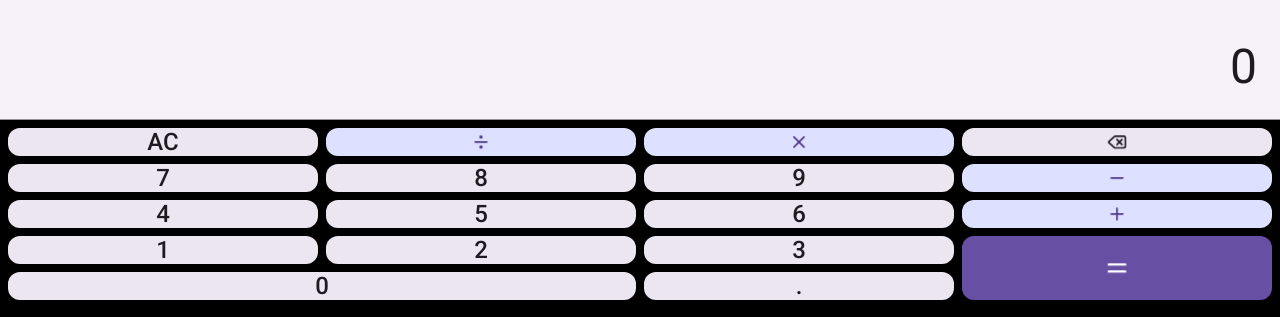
CalculatorApp › handles AC (All Clear)
The width and height of the screenshot is (1280, 317).
What coordinates should you click on to do the following:
click the button "1"
I would click on:
 (163, 250)
Its box is [8,236,318,264].
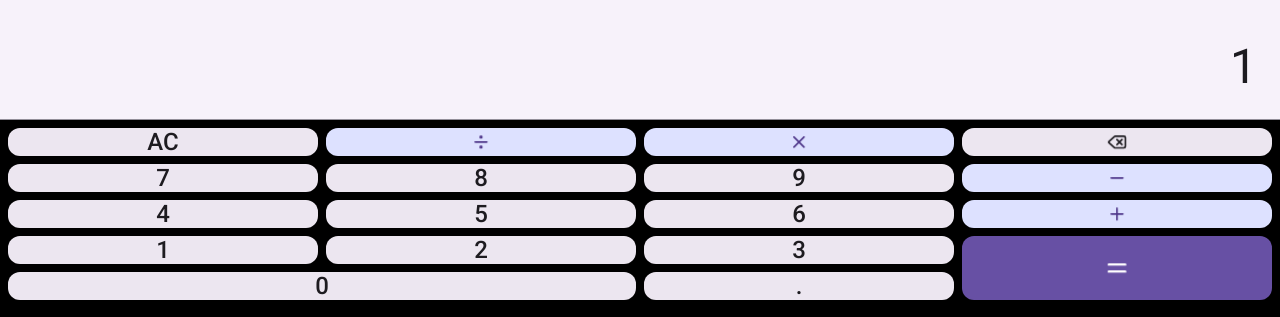
What coordinates should you click on to do the following:
click the button "2"
I would click on:
 (481, 250)
Its box is [326,236,636,264].
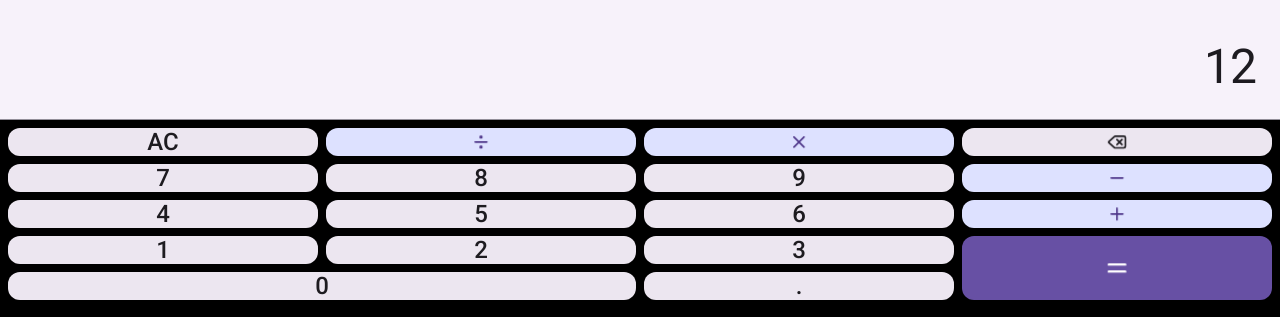
Expected: the heading with test id "display" reads "12", [1204,38,1256,95]
What coordinates should you click on to do the following:
click the button "AC"
I would click on:
 (163, 142)
Its box is [8,128,318,156].
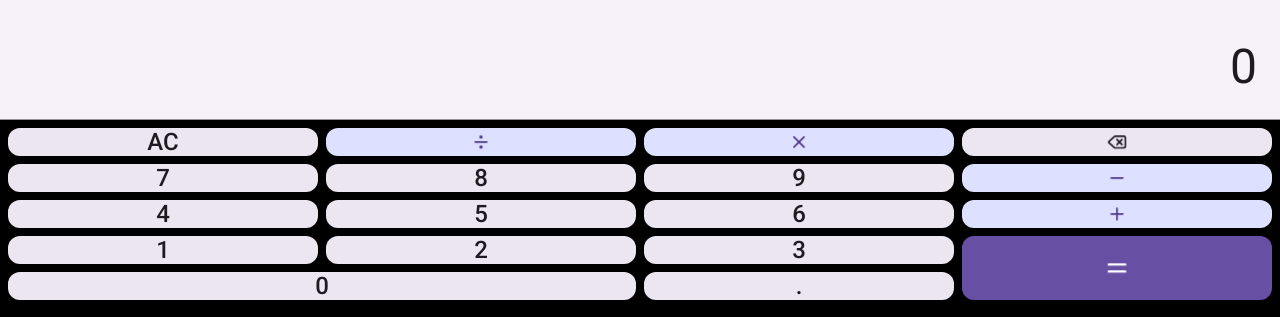
Expected: the heading with test id "display" reads "0", [1230,38,1256,95]
